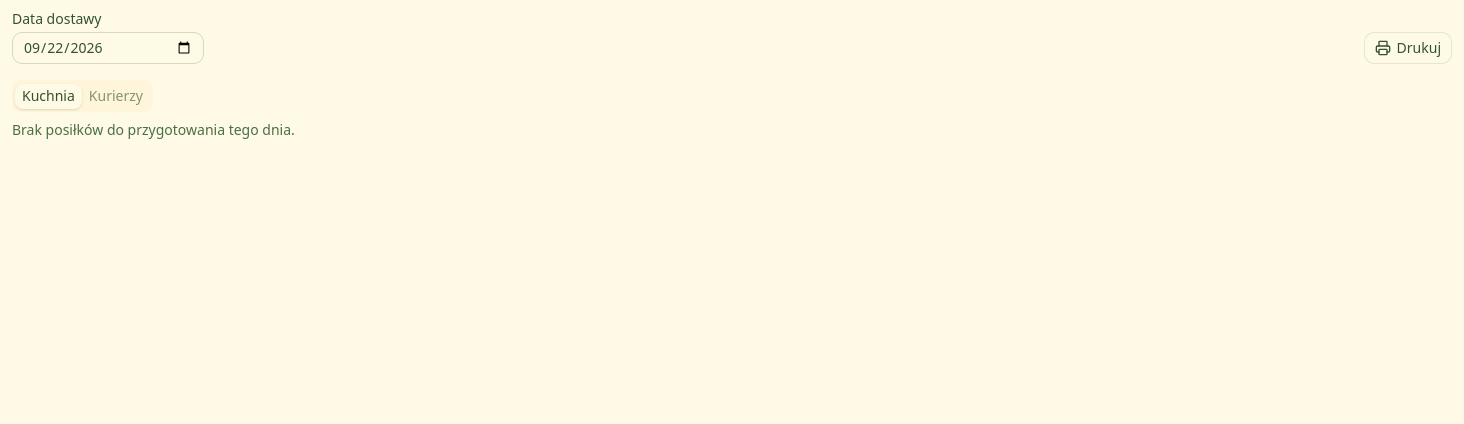
Test case: DeliveriesClient: stop actions follow allowedNext › offers deliver and fail only when the server allows them
What coordinates should you click on to do the following:
click the tab with test id "tab-couriers"
I would click on:
 (116, 96)
Its box is [82,84,150,108].
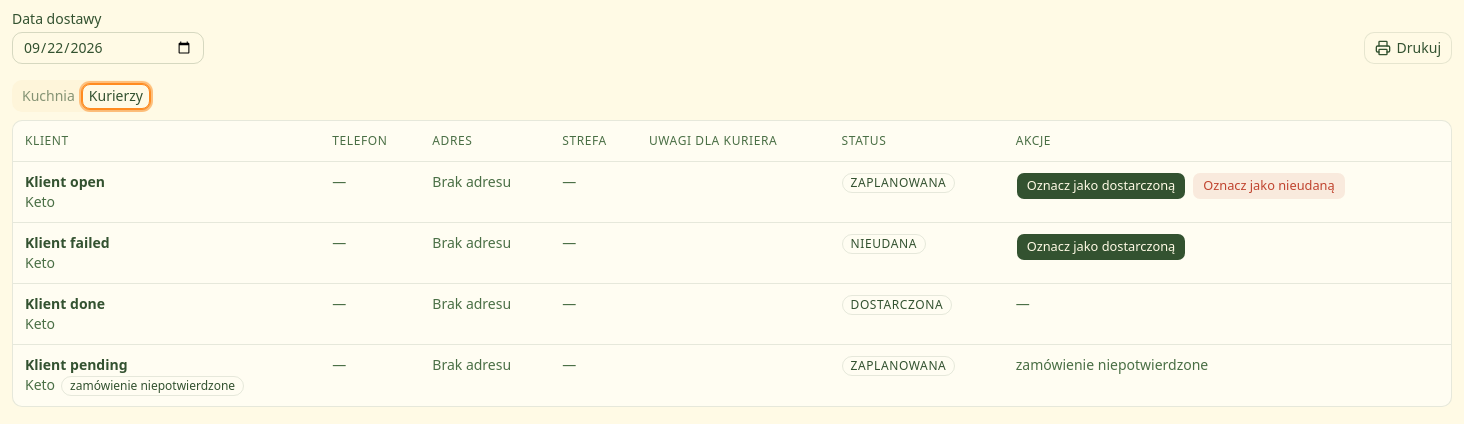
Expected: the button with test id "mark-delivered" is shown, [1016,172,1186,200]
Expected: the button with test id "mark-failed" is shown, [1192,172,1346,200]
Expected: the text "zamówienie niepotwierdzone" below "Klient pending" is shown, [70,376,235,394]
